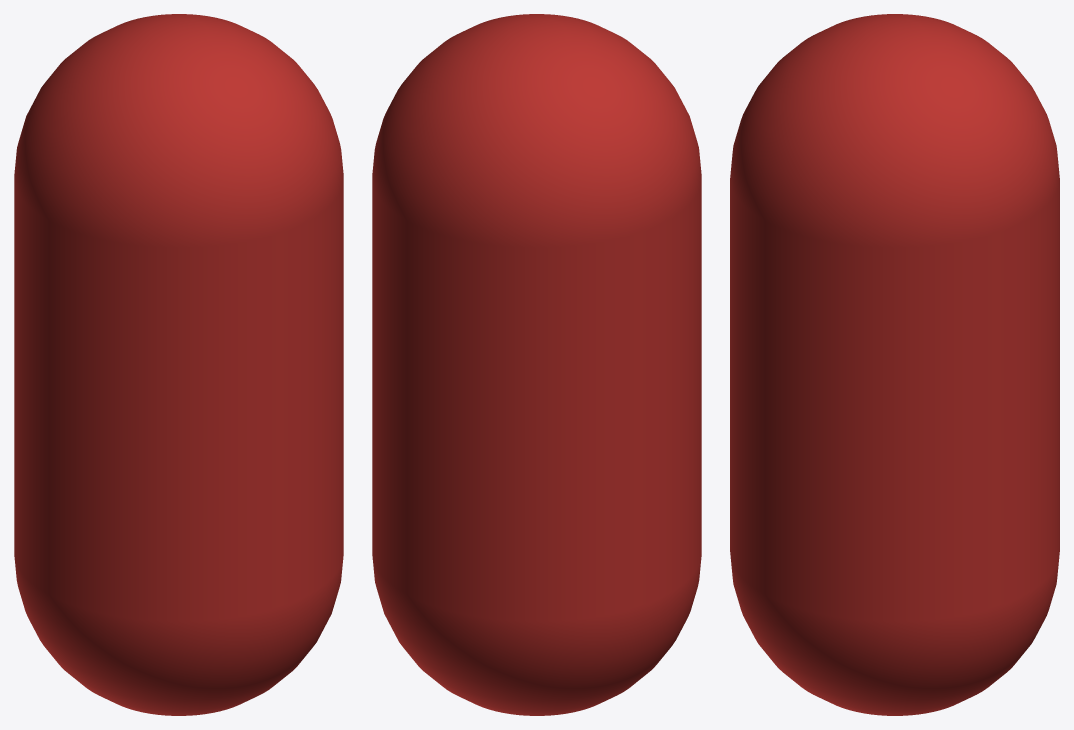
3 views of the same model, side by side, from view 1: azimuth 30°, elevation 25°; view 2: azimuth 150°, elevation 25°; view 3: azimuth 270°, elevation 25° (orthographic).
Visible parts, largest first — view 1: MeshInstance3D; view 2: MeshInstance3D; view 3: MeshInstance3D.
Part boxes in pixels (x1,y1,x2,y2): MeshInstance3D: (14,14,343,715); MeshInstance3D: (372,14,701,715); MeshInstance3D: (730,14,1059,715).
Bounding box in the file's own units: 0.8 × 1.8 × 0.8.
